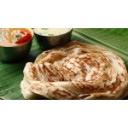parota: (22, 43, 128, 99)
